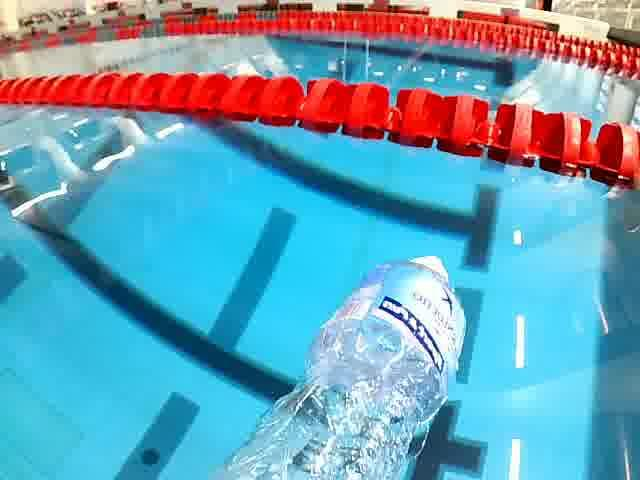Bottle: (218, 251, 473, 480)
